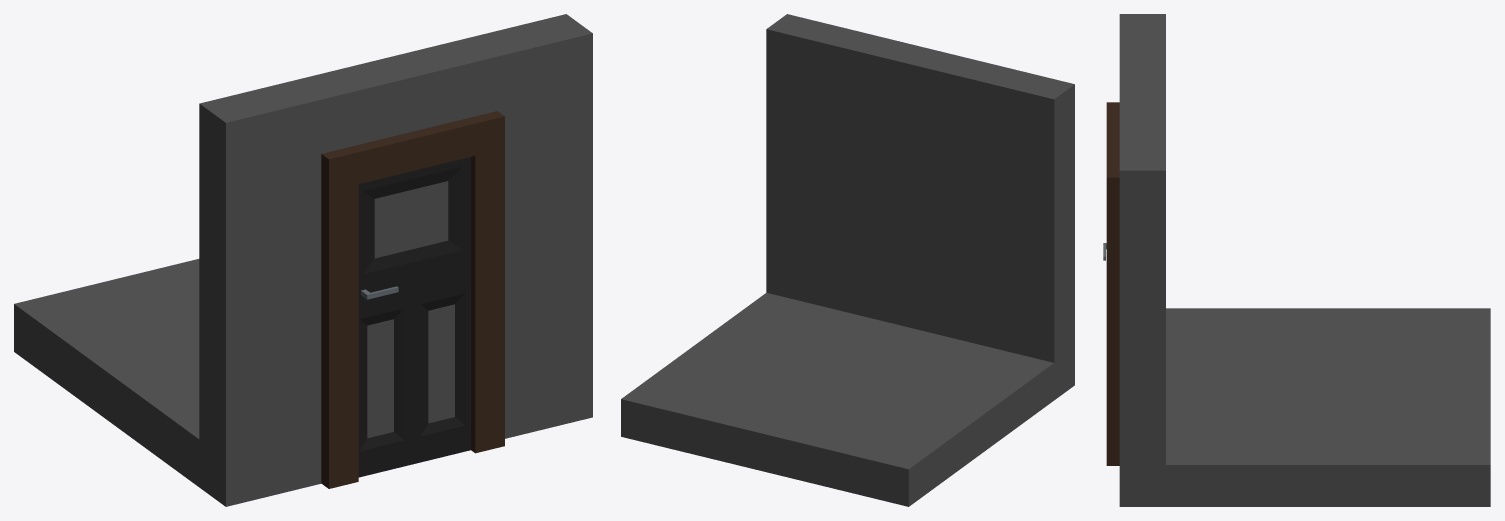
File: door.fbx
3 views of the same model, side by side, from view 1: azimuth 30°, elevation 25°; view 2: azimuth 150°, elevation 25°; view 3: azimuth 270°, elevation 25° (orthographic). The views are drawn at different scales.
Visible parts, largest first — view 1: floor_wall.005; view 2: floor_wall.005; view 3: floor_wall.005.
Part boxes in pixels (x1,y1,x2,y2): floor_wall.005: (14, 14, 592, 506); floor_wall.005: (621, 14, 1074, 506); floor_wall.005: (1103, 14, 1490, 506).
Bounding box in the file's own units: 200 × 200 × 209.
